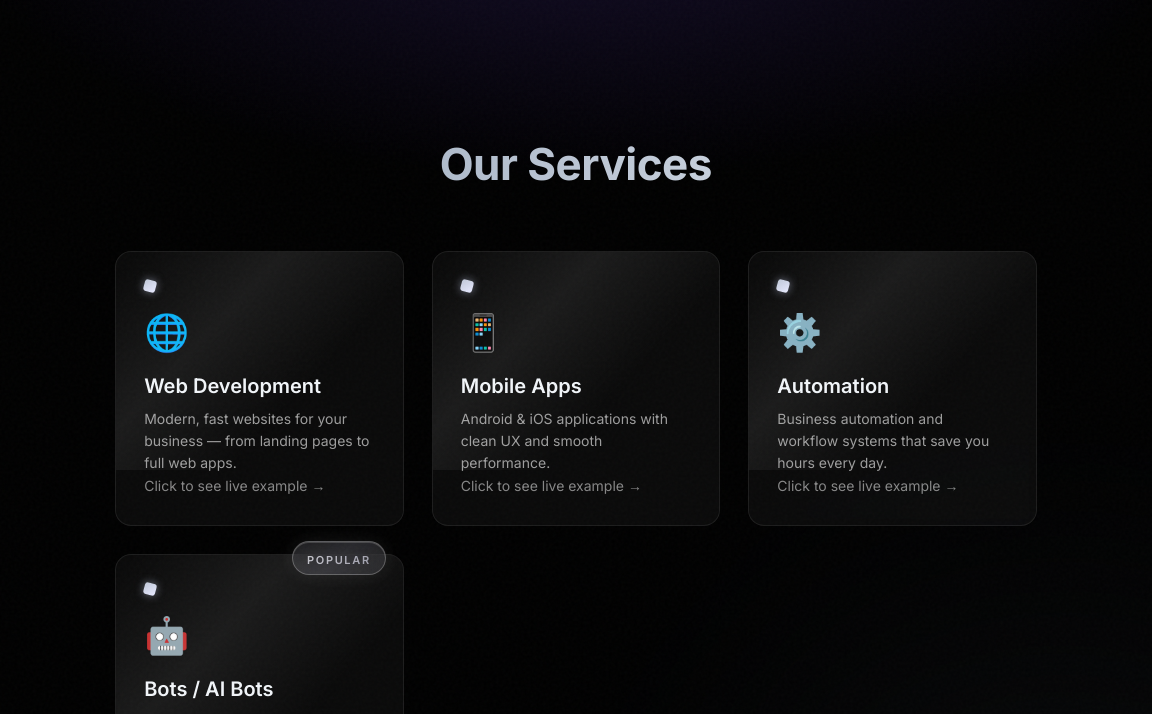
Test: the modal a card opens › Mobile Apps opens its own example
Click the element "Mobile Apps": (576, 388) [432, 250, 720, 526]
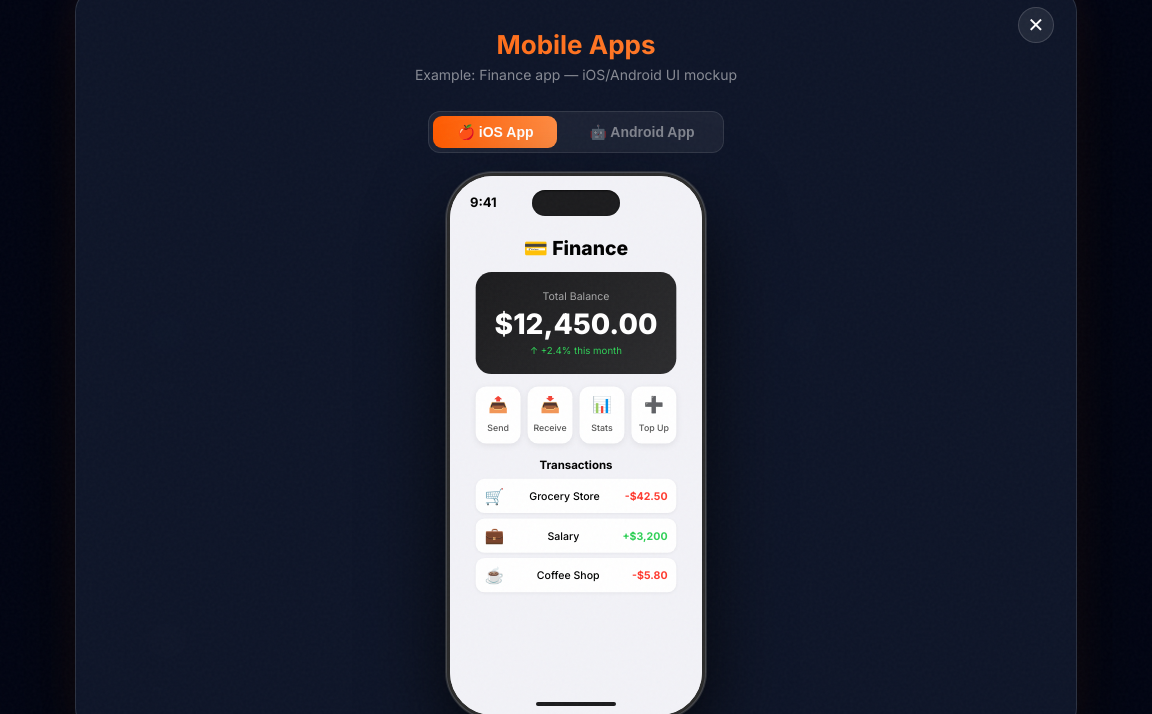
Result: the text "Mobile Apps" is shown at [116, 29, 1036, 60]
Result: the text "Example: Finance app — iOS/Android UI mockup" is shown at [415, 66, 737, 83]
